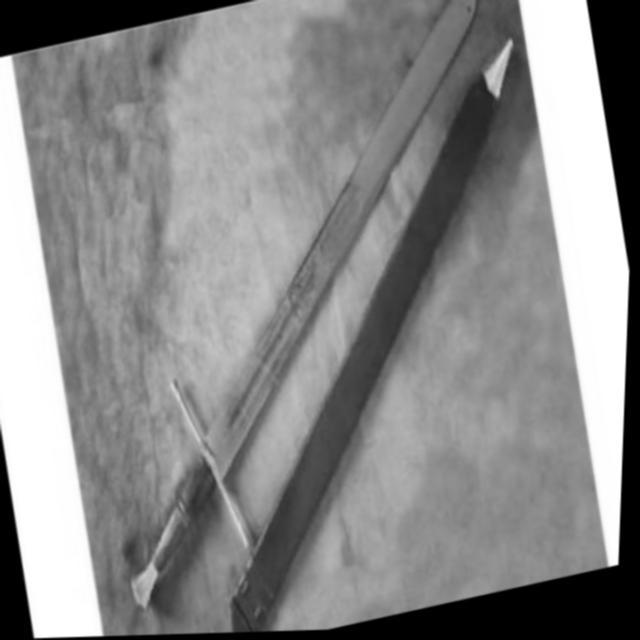weapon: (32, 0, 580, 613)
